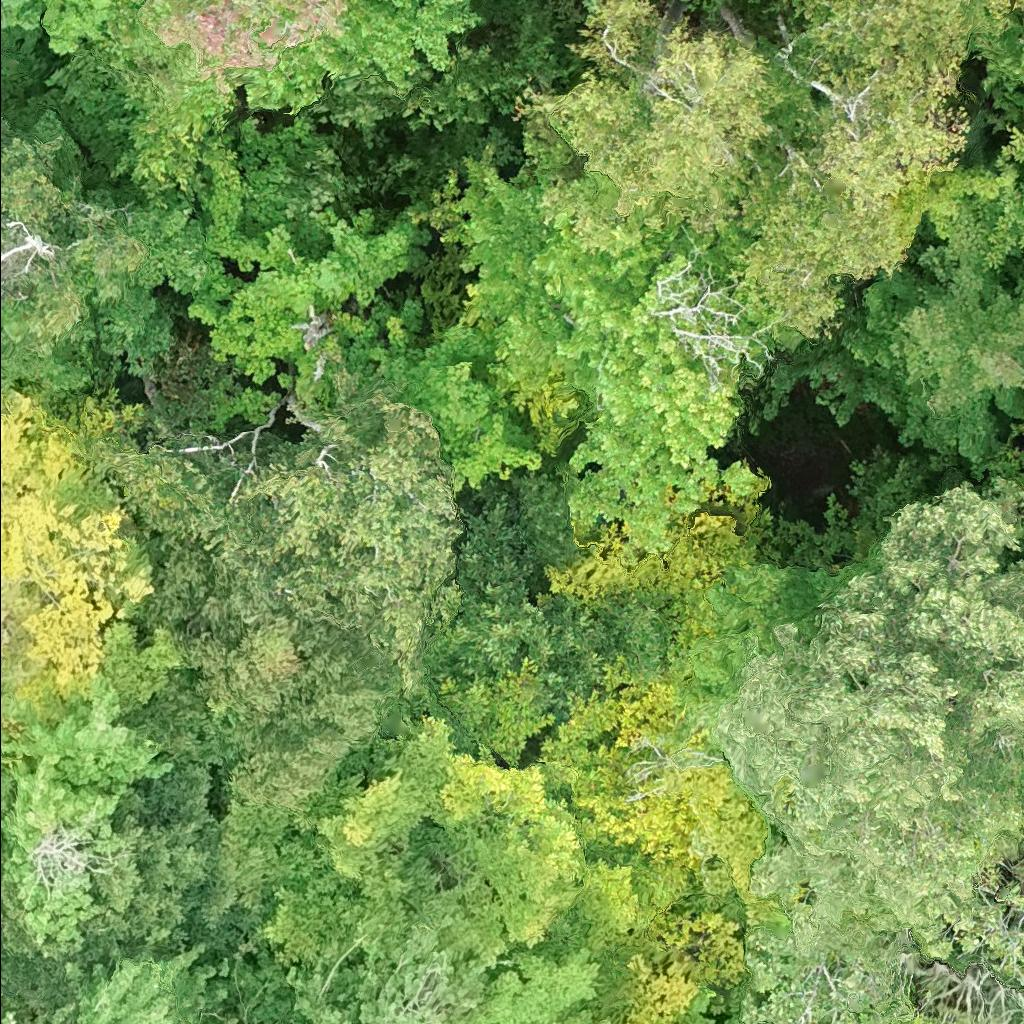crown: (707, 474, 1023, 1023), (114, 368, 467, 812), (408, 130, 739, 453), (226, 716, 585, 979), (41, 0, 485, 193), (535, 654, 790, 943), (737, 52, 970, 343), (0, 384, 188, 719), (544, 0, 793, 231), (0, 667, 177, 959), (191, 197, 436, 407), (844, 270, 1023, 472), (224, 912, 487, 1023), (531, 840, 693, 1014), (562, 409, 760, 549), (785, 0, 1023, 73), (610, 910, 751, 1023), (48, 937, 232, 1023), (0, 102, 101, 245), (471, 943, 611, 1023), (0, 0, 118, 56), (964, 15, 1023, 95), (0, 1009, 16, 1023), (219, 1013, 241, 1023), (30, 1011, 44, 1023), (723, 1016, 742, 1023), (581, 1023, 584, 1023)
